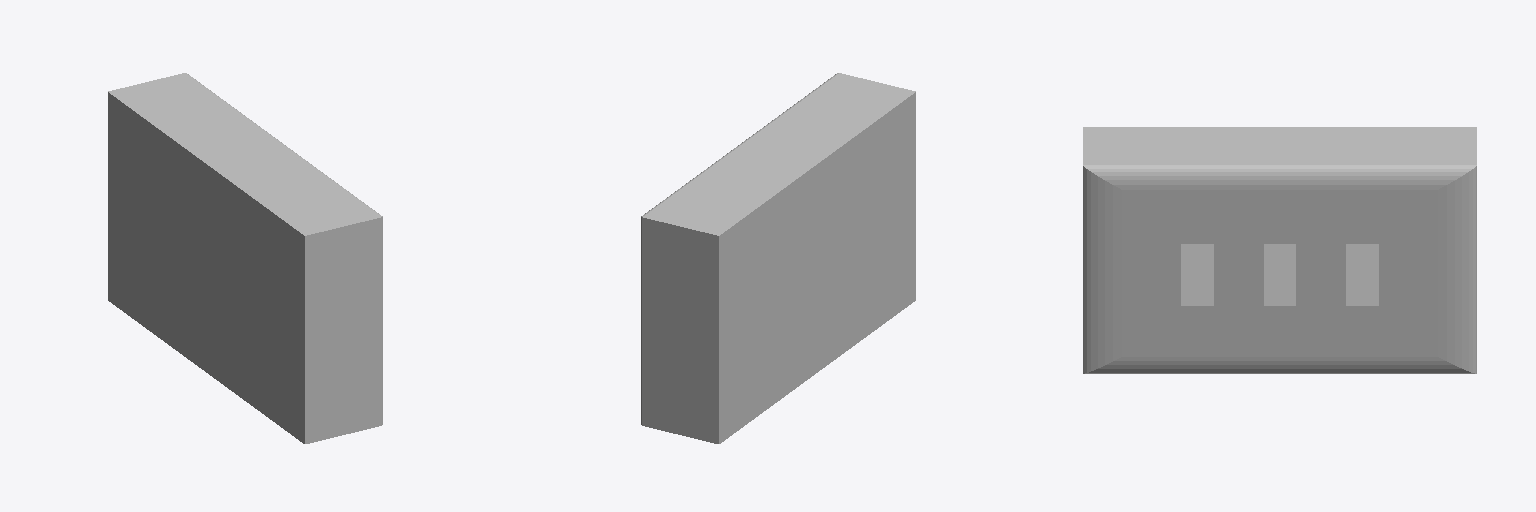
Rendered from lightswitch3.obj.
3 views of the same model, side by side, from view 1: azimuth 30°, elevation 25°; view 2: azimuth 150°, elevation 25°; view 3: azimuth 270°, elevation 25° (orthographic).
Parts seen in each view (by area): view 1: Cube; view 2: Cube; view 3: Cube, Cube.002, Cube.003, Cube.001.
Part boxes in pixels (x1,y1,x2,y2): Cube: (108, 73, 382, 443); Cube: (641, 73, 915, 443); Cube: (1083, 127, 1476, 373); Cube.002: (1181, 244, 1213, 305); Cube.003: (1346, 244, 1378, 305); Cube.001: (1264, 244, 1295, 305).
Size of the model in its own units: 7 by 14 by 24.